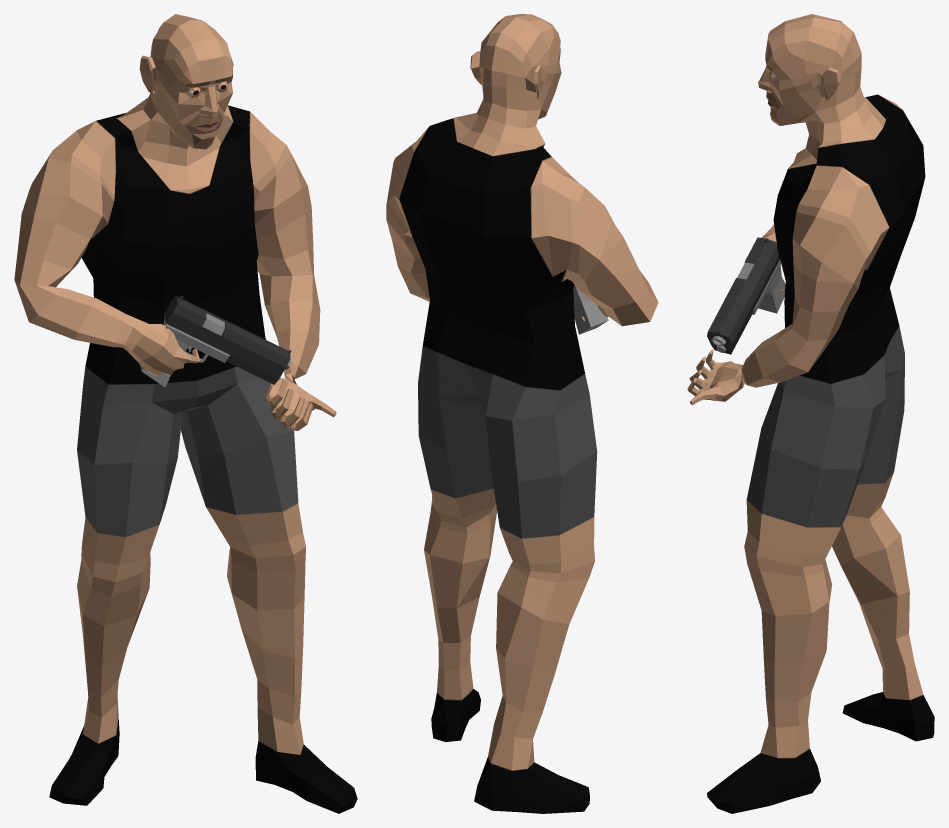
The model's file is PlayerIdle(227).obj.
3 renders of one model, left to right at view 1: azimuth 30°, elevation 25°; view 2: azimuth 150°, elevation 25°; view 3: azimuth 270°, elevation 25°, orthographic. The views are drawn at different scales.
Visible parts, largest first — view 1: Plane002, Box003; view 2: Plane002, Box003; view 3: Plane002, Box003.
Part boxes in pixels (x1,y1,x2,y2): Plane002: (14, 14, 357, 813); Box003: (140, 295, 291, 387); Plane002: (386, 14, 658, 813); Box003: (573, 285, 608, 334); Plane002: (687, 14, 934, 813); Box003: (707, 237, 785, 354).
Size of the model in its own units: 678 by 1805 by 547.
